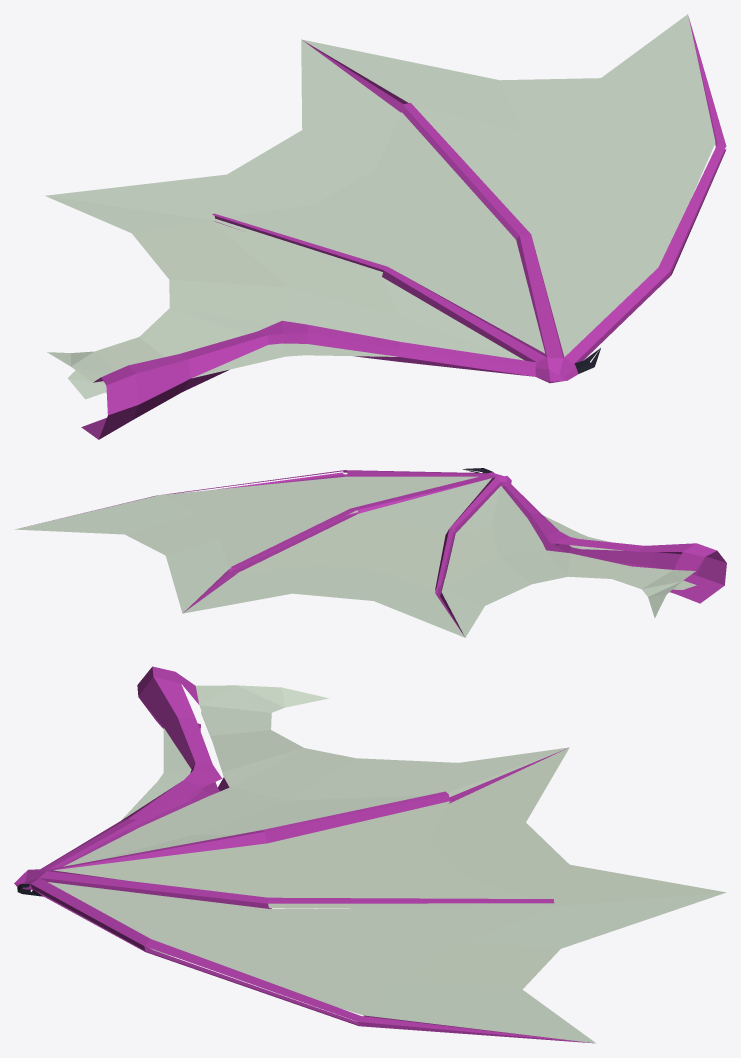
File: n_wing.obj
3 views of the same model, one above another, from view 1: azimuth 30°, elevation 25°; view 2: azimuth 150°, elevation 25°; view 3: azimuth 270°, elevation 25° (orthographic). The views are drawn at different scales.
Parts seen in each view (by area): view 1: Cylinder; view 2: Cylinder; view 3: Cylinder.
Boxes of the visible parts, left/top/right/bottom form: Cylinder: left=45, top=14, right=726, bottom=439; Cylinder: left=14, top=468, right=726, bottom=637; Cylinder: left=14, top=666, right=726, bottom=1043.
Size of the model in its own units: 46.95 by 3.58 by 36.83.
1 material, 1 textured.
